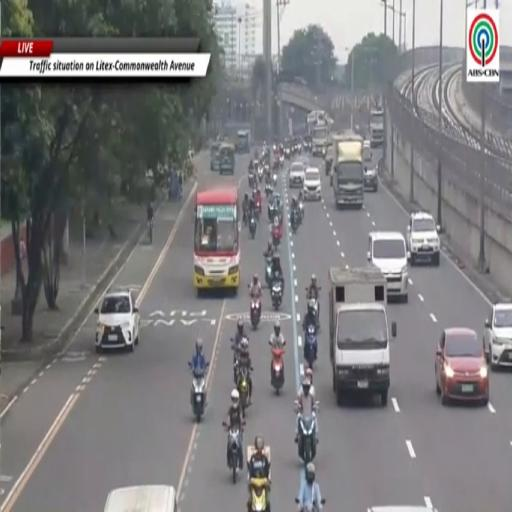bus: (194, 186, 240, 294), (235, 130, 251, 154)
car: (435, 328, 489, 405), (367, 232, 409, 302), (95, 290, 140, 353), (104, 486, 178, 511), (484, 303, 511, 370), (408, 212, 440, 266), (303, 168, 321, 200), (289, 162, 305, 187), (368, 506, 437, 511), (364, 167, 378, 191), (295, 155, 309, 168)
motorcycle: (298, 414, 317, 463), (228, 427, 242, 483), (191, 373, 205, 422), (250, 478, 269, 511), (271, 348, 284, 394), (304, 324, 317, 369), (237, 366, 248, 417), (307, 295, 320, 329), (270, 280, 283, 310), (231, 338, 239, 385), (250, 297, 260, 329), (265, 256, 272, 286), (272, 226, 281, 248), (249, 215, 257, 239), (291, 210, 299, 234), (268, 203, 277, 222), (298, 201, 304, 223), (301, 504, 319, 511), (255, 194, 261, 215), (265, 184, 273, 198), (248, 171, 254, 187), (243, 210, 248, 226), (258, 168, 263, 182), (279, 155, 284, 168), (273, 173, 277, 186), (285, 148, 290, 158)
truck: (329, 266, 396, 406), (332, 131, 363, 209), (307, 110, 330, 157), (311, 120, 329, 158), (369, 107, 384, 148)
